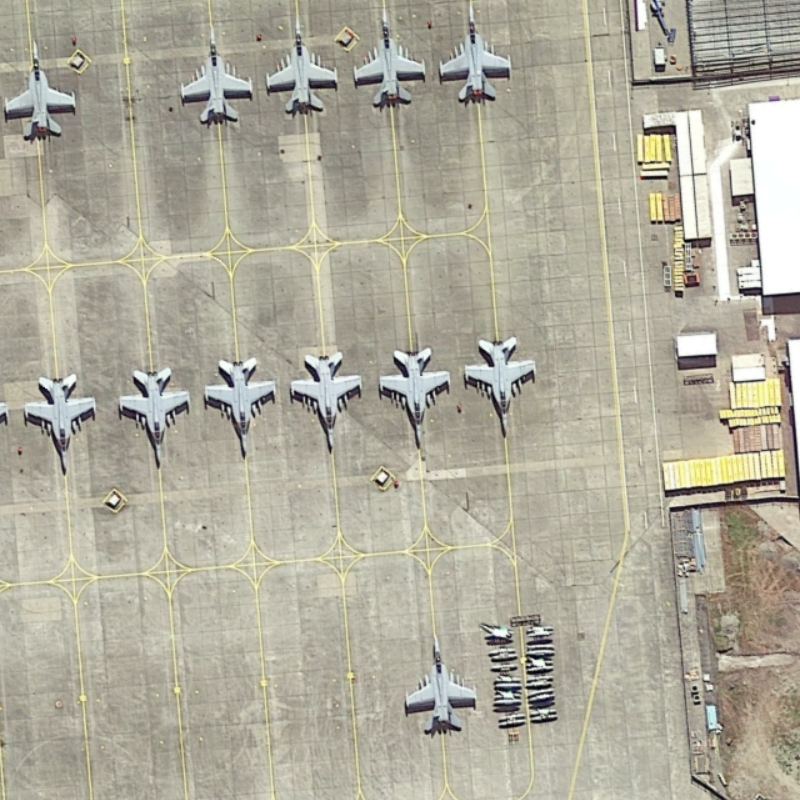A16: (370, 336, 459, 457), (15, 366, 106, 483), (390, 630, 485, 740), (110, 358, 201, 472), (1, 31, 87, 150), (198, 350, 286, 465), (459, 322, 543, 442), (284, 340, 365, 464), (173, 21, 260, 131), (345, 3, 432, 113), (434, 1, 520, 109), (262, 10, 345, 121)
